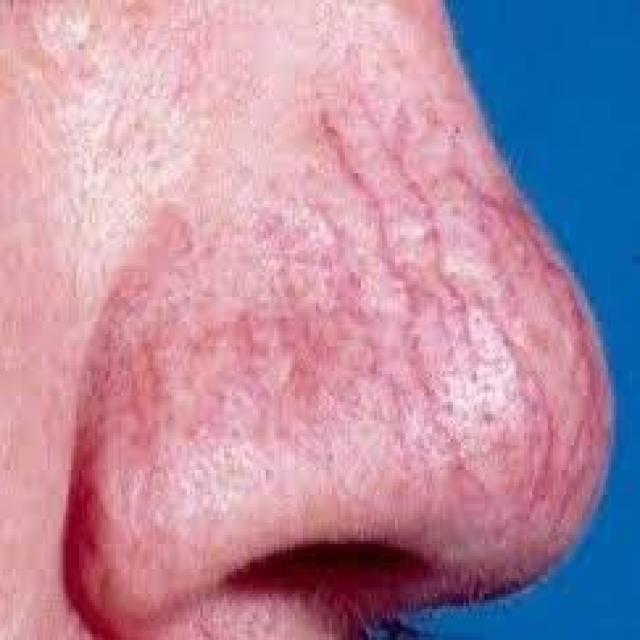Rosacea: (64, 92, 616, 640)
